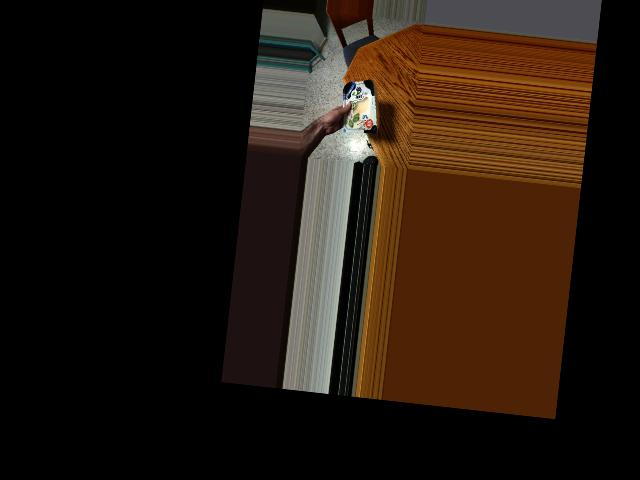cheese: (328, 76, 385, 139)
